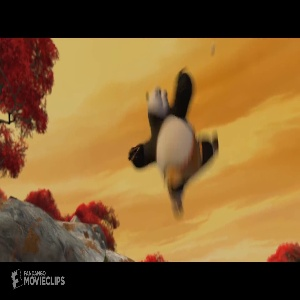po: (124, 63, 228, 222)
